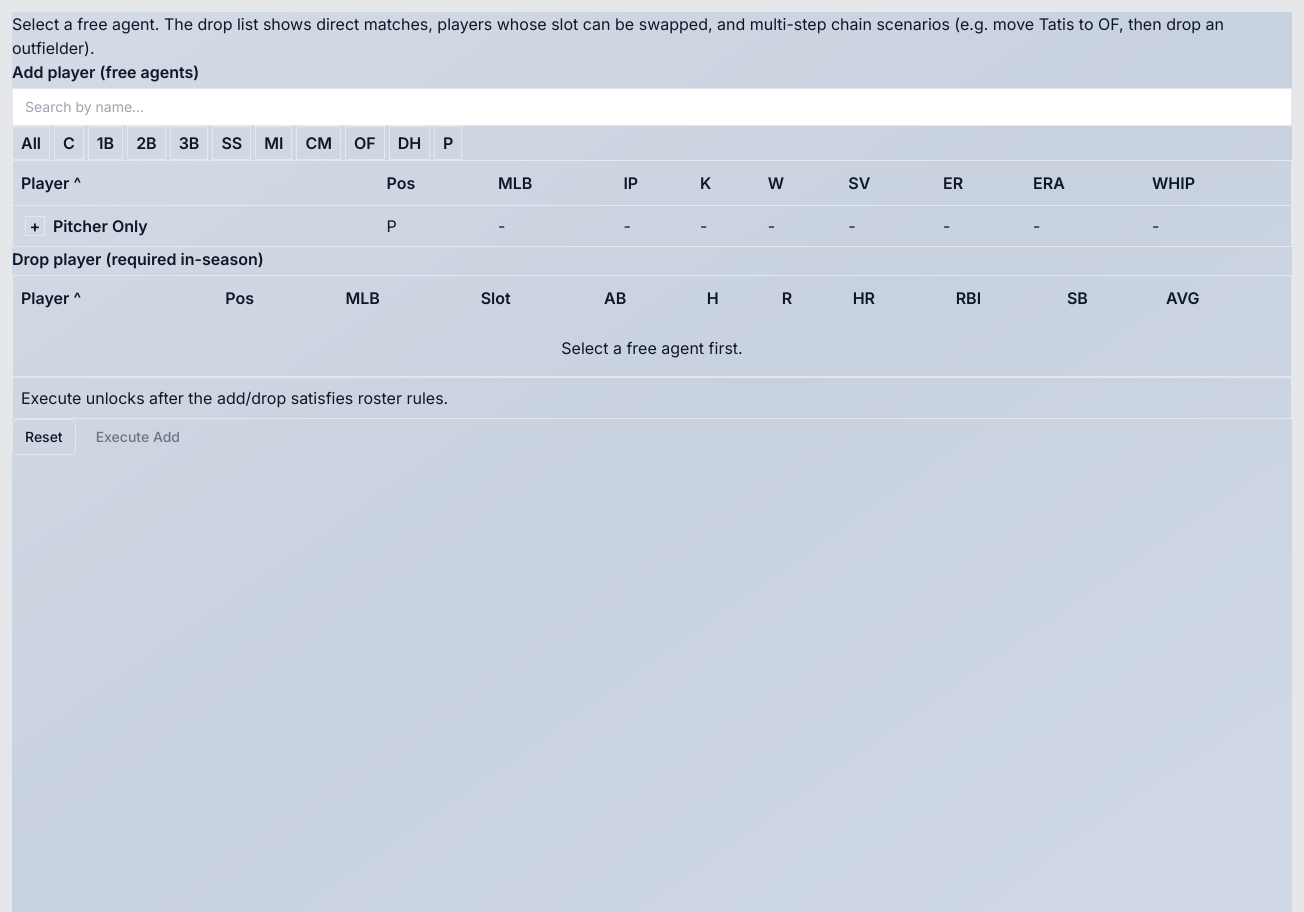
AddDropPanel — DROP_REQUIRED in-season › keeps confirm disabled when selected add cannot satisfy the drop slot
Click the text "Pitcher Only" at (100, 226), box [53,214,148,238]
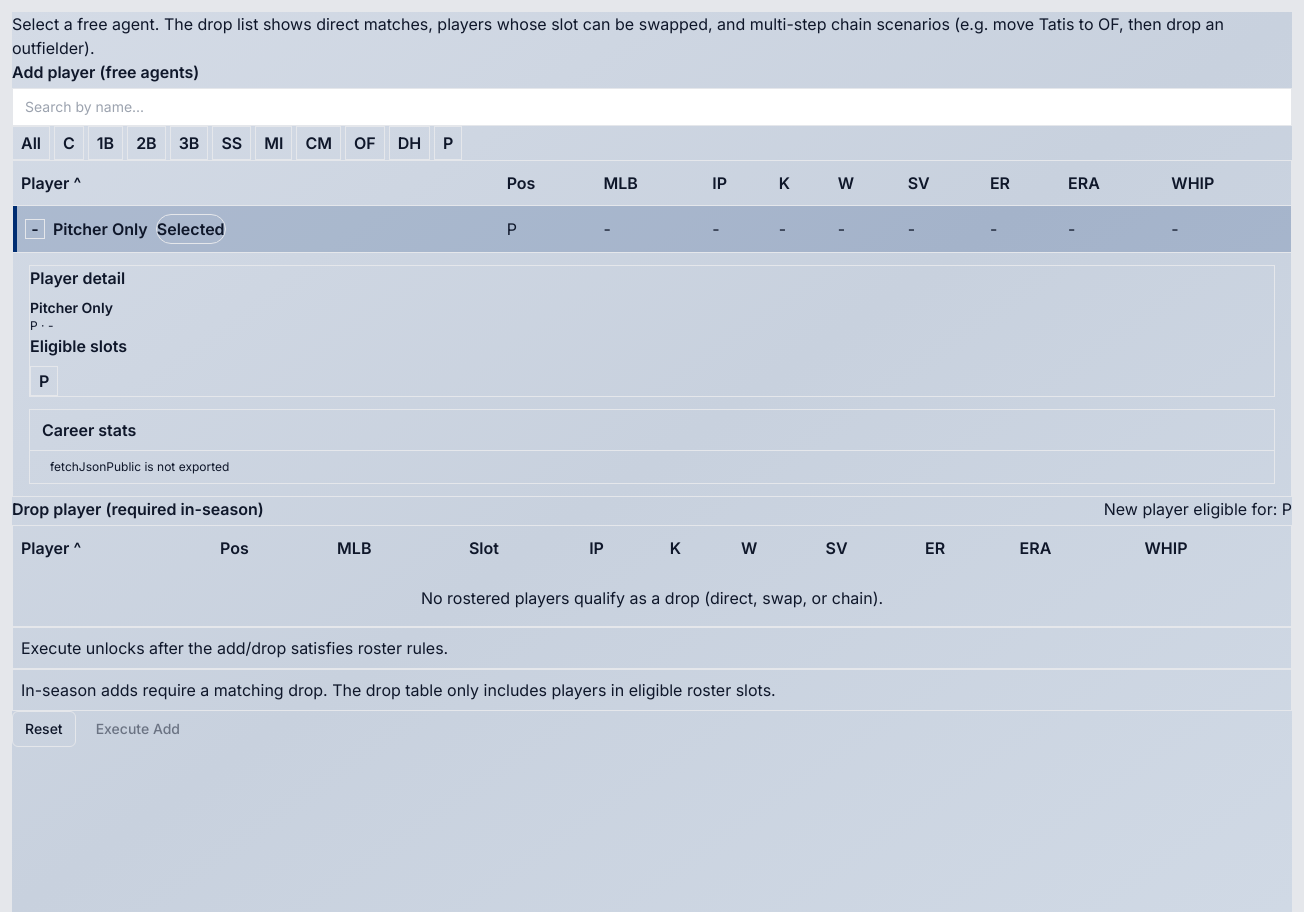
Expected: the button "Execute Add" is disabled, [84,711,192,747]
Expected: the text "No rostered players qualify" is shown, [421,588,883,608]
